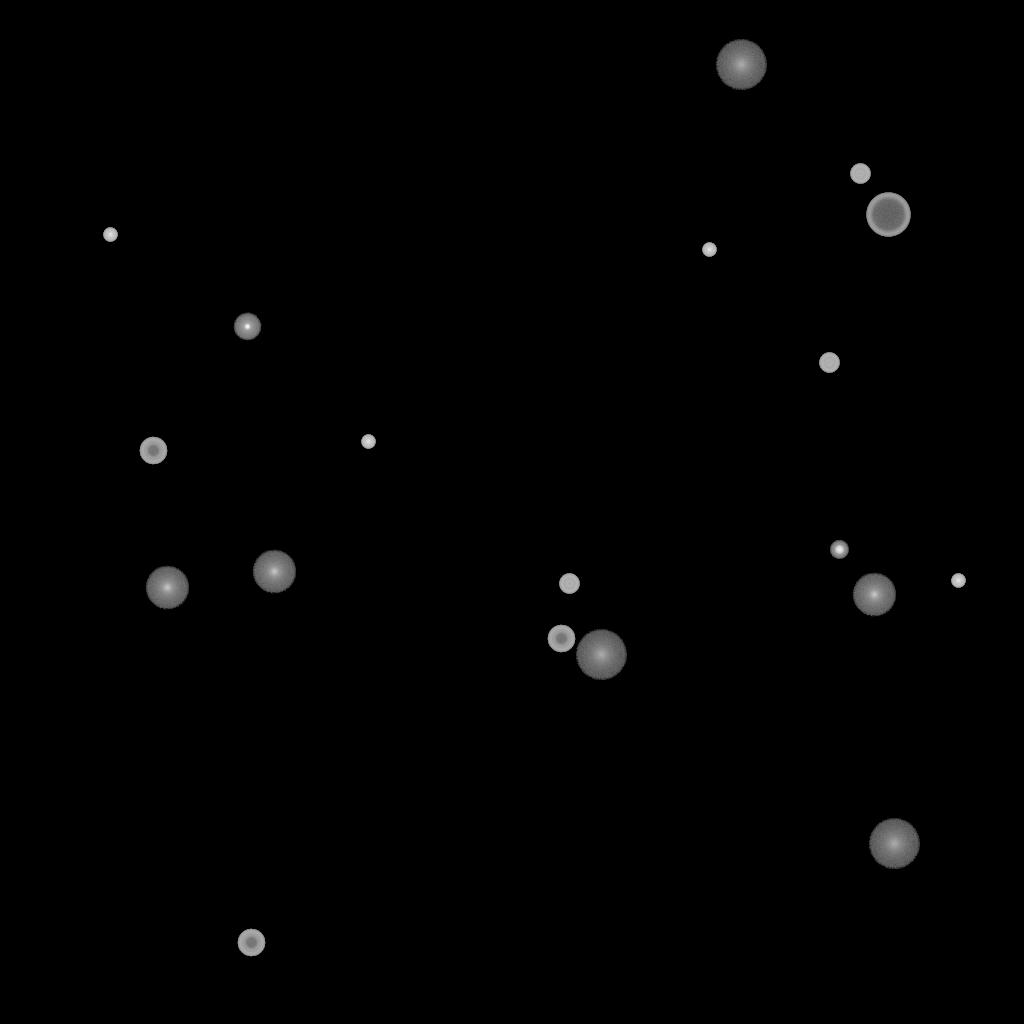depth:-10: (233, 313, 261, 341)
depth:-20: (830, 541, 848, 559)
depth:-30: (702, 243, 716, 257), (951, 574, 965, 588), (361, 435, 375, 449), (103, 228, 117, 242)
depth:-40: (559, 574, 579, 594), (850, 164, 870, 184), (819, 353, 839, 373)
depth:-50: (139, 437, 167, 465), (237, 929, 265, 957), (547, 625, 575, 653)
depth:-70: (866, 193, 910, 237)
depth:10: (145, 566, 189, 610), (252, 550, 296, 594), (852, 573, 896, 617)
depth:20: (575, 630, 627, 680), (715, 40, 767, 90), (868, 819, 920, 869)
